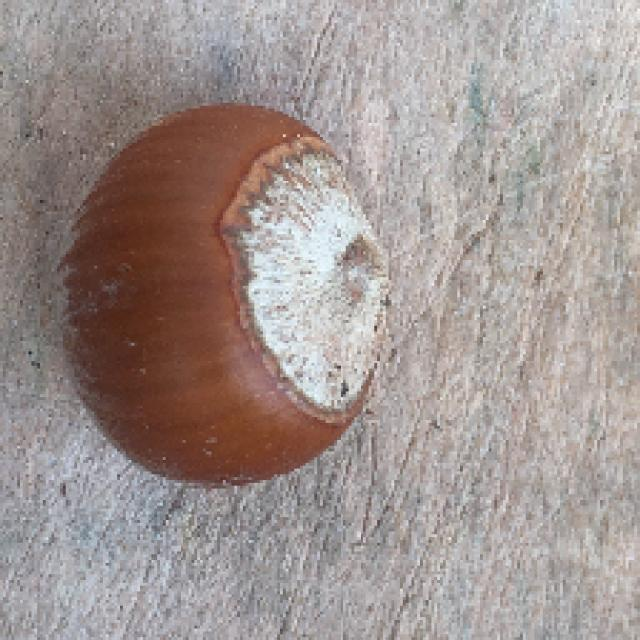QualityHazelnut: (51, 100, 392, 490)
